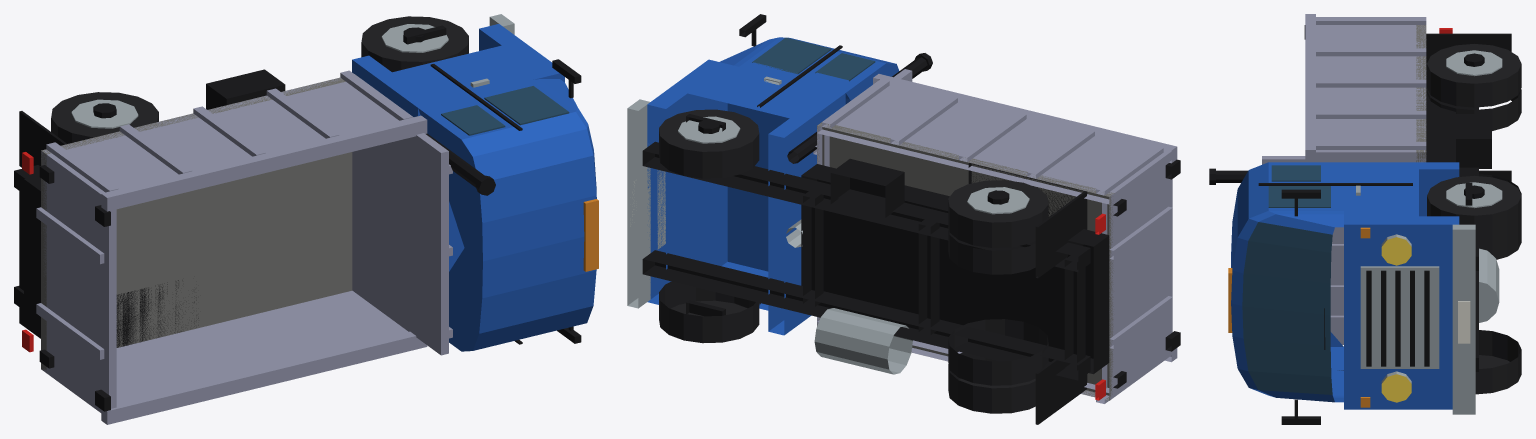
The model's file is empty.glb.
3 renders of one model, left to right at view 1: azimuth 30°, elevation 25°; view 2: azimuth 150°, elevation 25°; view 3: azimuth 270°, elevation 25°, orthographic. The views are drawn at different scales.
Visible parts, largest first — view 1: empty_bed, empty_cab_upper, empty_headboard, empty_cab_arch, empty_front1, empty_rear_out1, empty_subframe, empty_cab_back, empty_rear_guard-1, empty_battery_box, empty_side_window1, empty_cab_front (+4 smaller); view 2: empty_bed, empty_subframe, empty_cab_arch, empty_chassis-1, empty_chassis1, empty_cab_back, empty_cab_front, empty_front1, empty_rear_out1, empty_fuel_tank, empty_bumper, empty_front-1 (+15 smaller); view 3: empty_cab_upper, empty_bed, empty_cab_front, empty_grille, empty_rear_out1, empty_front1, empty_bumper, empty_cab_arch, empty_front-1, empty_battery_box, empty_subframe, empty_cab_back (+21 smaller).
Boxes of the visible parts, x1,y1,x2,y2 form: empty_bed: (36, 70, 427, 424); empty_cab_upper: (418, 79, 596, 351); empty_headboard: (414, 133, 448, 355); empty_cab_arch: (392, 45, 544, 271); empty_front1: (361, 16, 468, 72); empty_rear_out1: (51, 92, 158, 143); empty_subframe: (24, 175, 40, 327); empty_cab_back: (352, 55, 434, 116); empty_rear_guard-1: (116, 280, 198, 347); empty_battery_box: (206, 69, 285, 109); empty_side_window1: (484, 86, 569, 125); empty_cab_front: (479, 24, 564, 82); empty_bed: (817, 74, 1177, 403); empty_subframe: (801, 164, 1109, 374); empty_cab_arch: (687, 64, 829, 310); empty_chassis-1: (642, 250, 1090, 380); empty_chassis1: (642, 141, 1090, 271); empty_cab_back: (768, 89, 845, 335); empty_cab_front: (647, 59, 727, 304); empty_front1: (659, 109, 759, 178); empty_rear_out1: (948, 180, 1048, 247); empty_fuel_tank: (814, 308, 912, 374); empty_bumper: (627, 99, 650, 308); empty_front-1: (659, 281, 759, 343); empty_cab_upper: (1231, 162, 1343, 402); empty_bed: (1305, 14, 1426, 344); empty_cab_front: (1344, 216, 1459, 409); empty_grille: (1360, 266, 1439, 368); empty_rear_out1: (1427, 44, 1521, 107); empty_front1: (1427, 175, 1521, 240); empty_bumper: (1452, 224, 1475, 414); empty_cab_arch: (1344, 169, 1418, 216); empty_front-1: (1475, 330, 1521, 394); empty_battery_box: (1456, 114, 1491, 168); empty_subframe: (1426, 67, 1455, 162); empty_cab_back: (1344, 162, 1459, 216).
Bounding box in the file's own units: 7.6 × 3.9 × 4.75.
